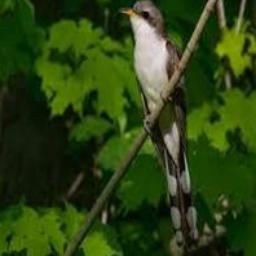Cuckoo: (120, 0, 200, 248)
